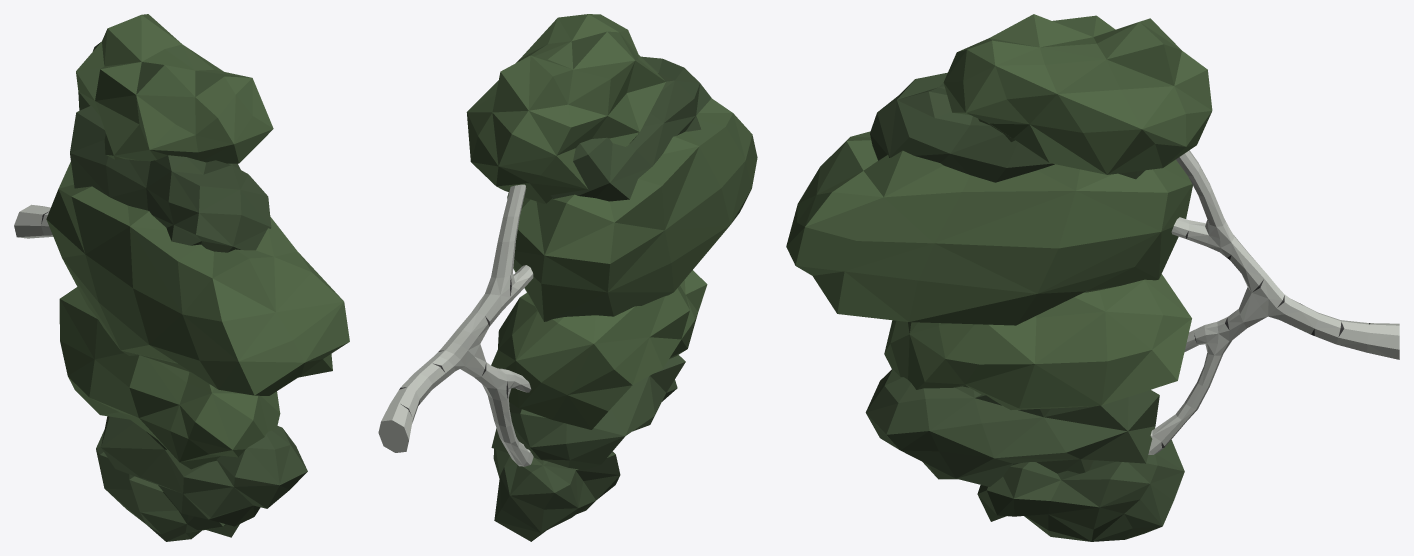
The model's file is tree-birch-4-30-ft.obj.
3 renders of one model, left to right at view 1: azimuth 30°, elevation 25°; view 2: azimuth 150°, elevation 25°; view 3: azimuth 270°, elevation 25°, orthographic. The views are drawn at different scales.
Visible parts, largest first — view 1: tree-birch-4-30-ft; view 2: tree-birch-4-30-ft; view 3: tree-birch-4-30-ft.
Boxes of the visible parts, <box> form: tree-birch-4-30-ft: <box>14,14,349,541</box>; tree-birch-4-30-ft: <box>378,14,757,541</box>; tree-birch-4-30-ft: <box>786,14,1399,541</box>.
Bounding box in the file's own units: 117 × 333 × 360.
